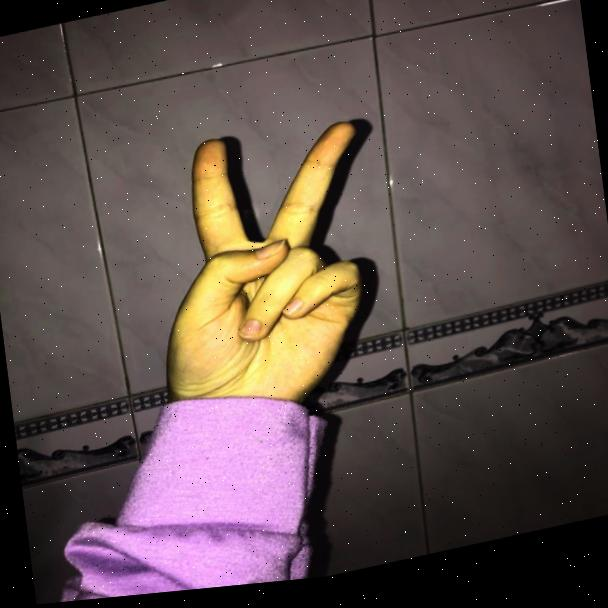two: (138, 99, 400, 418)
